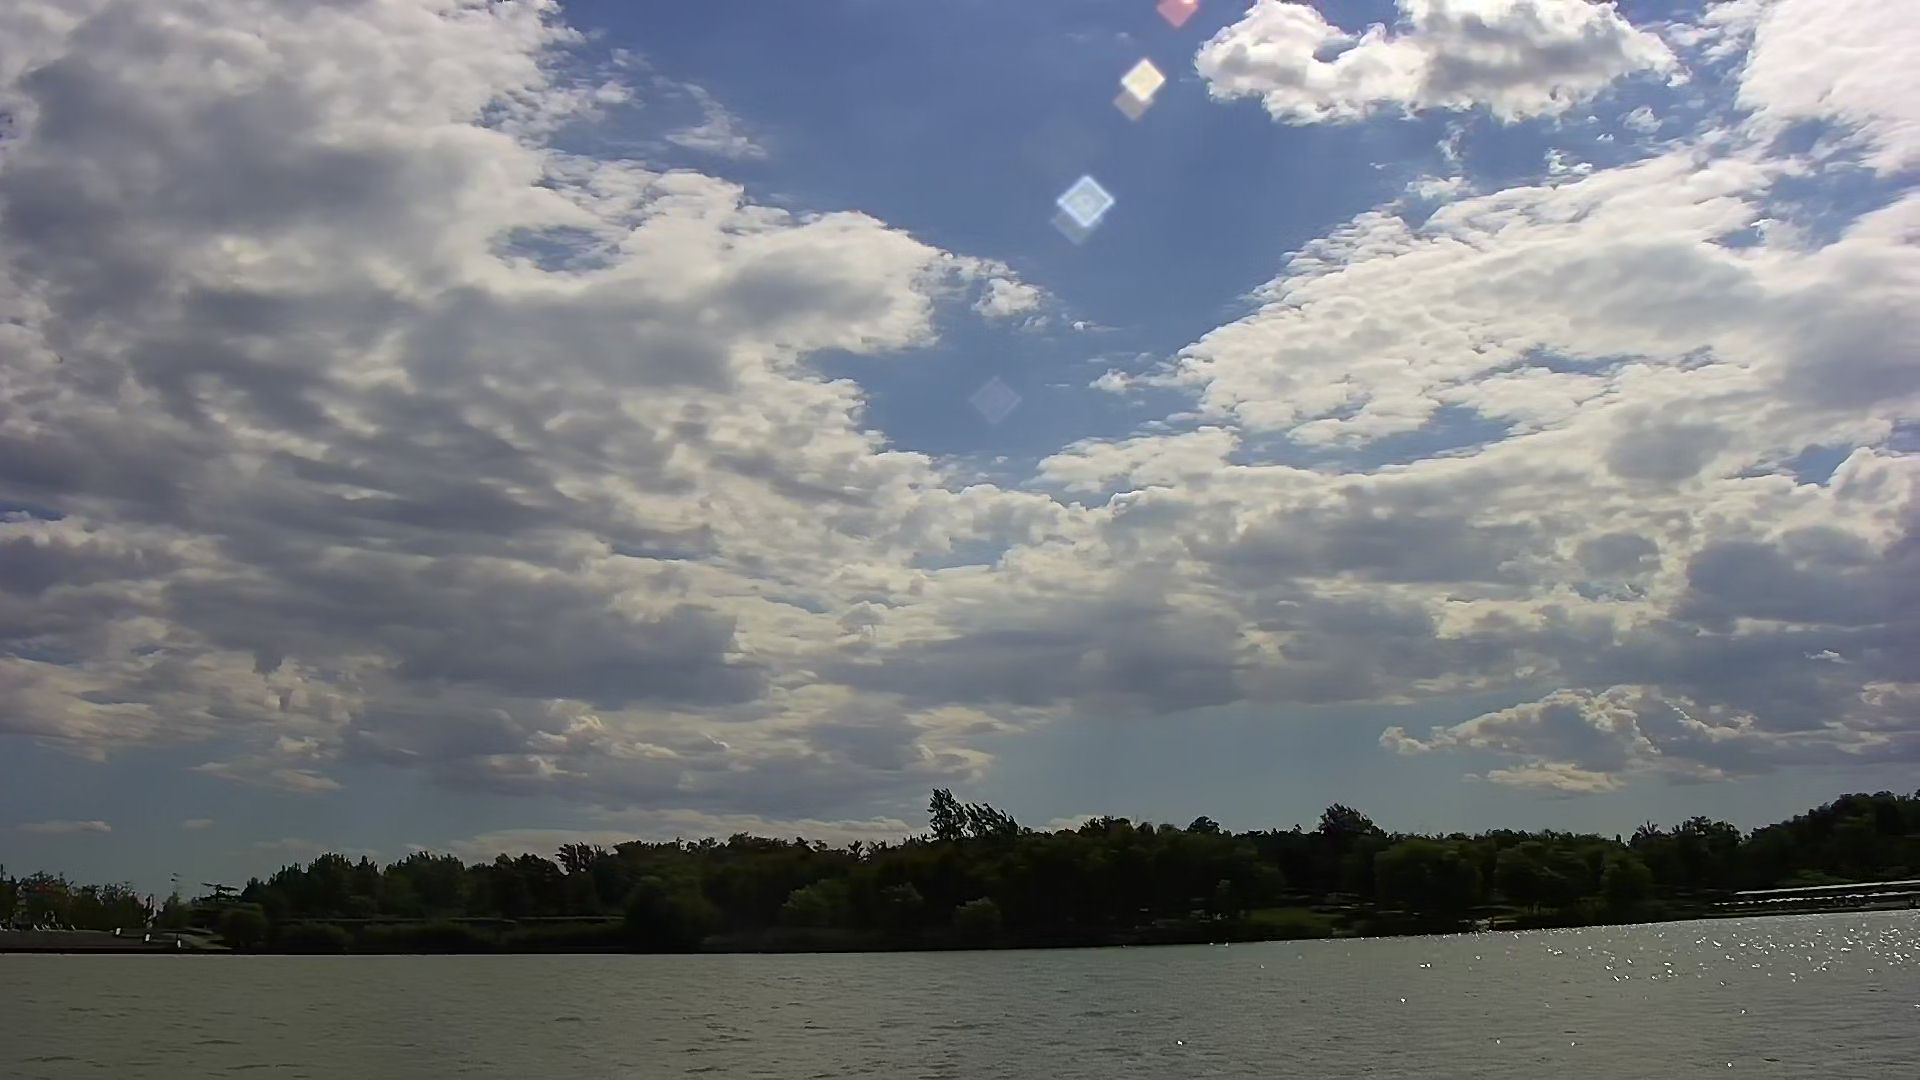harbor: (1, 913, 224, 956)
